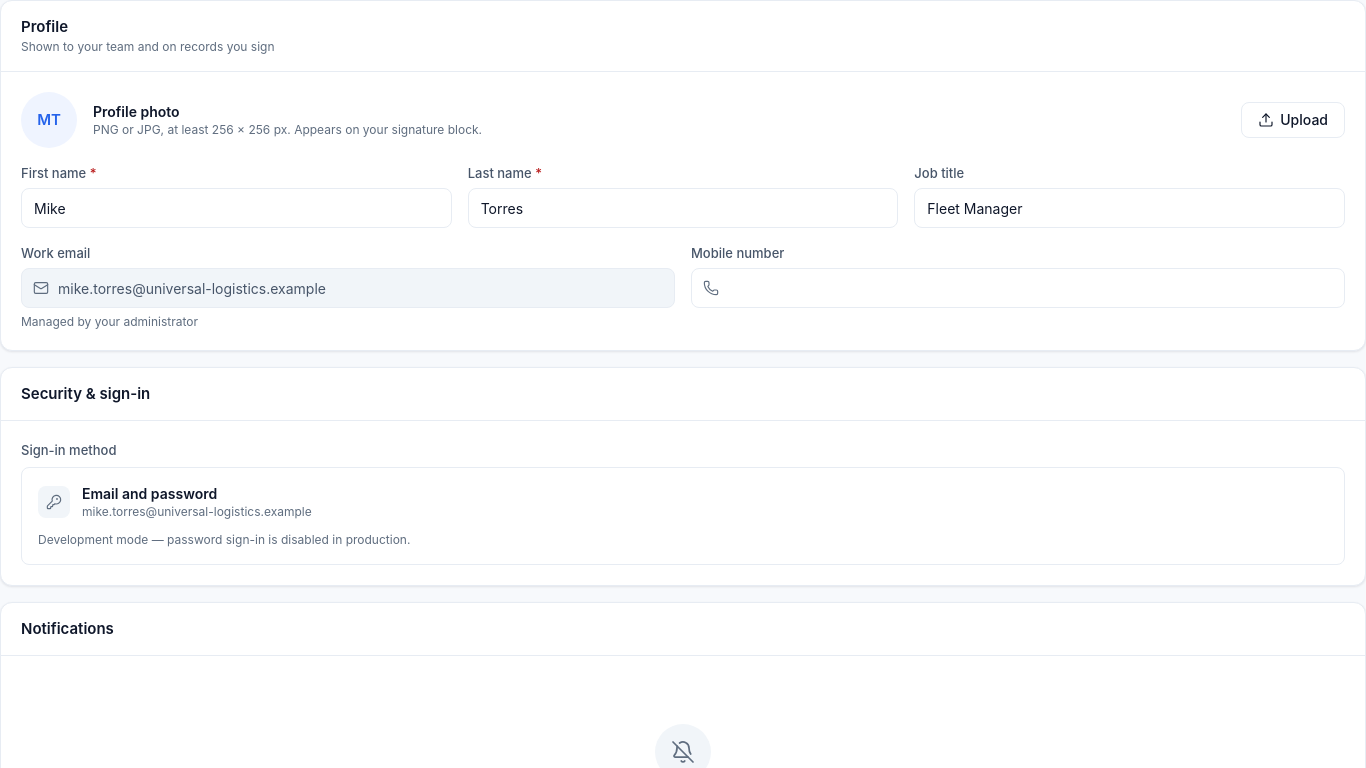
Test: W-26 — Profile card › validates on blur and never sends an invalid form
Clear the field labelled "First name *" at (236, 208), box [21,188,452,228]
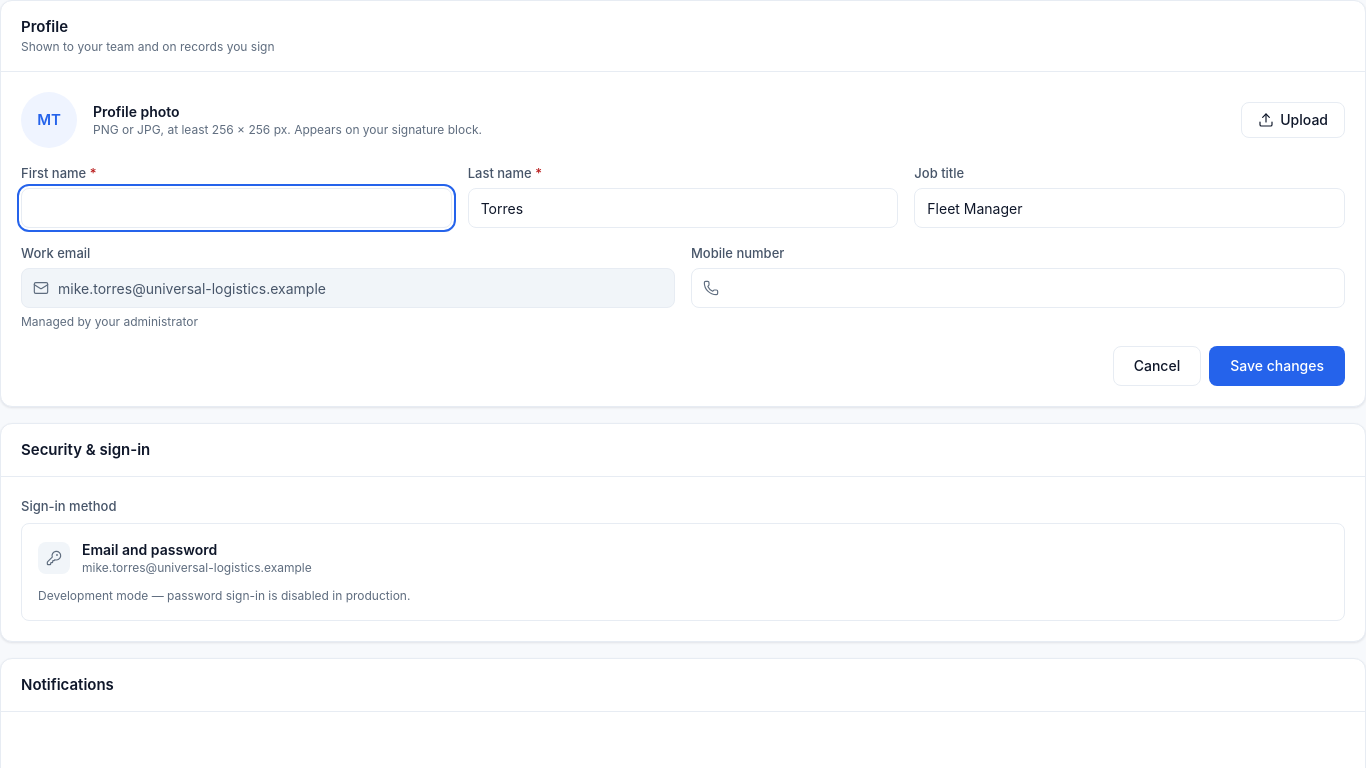
Press Tab
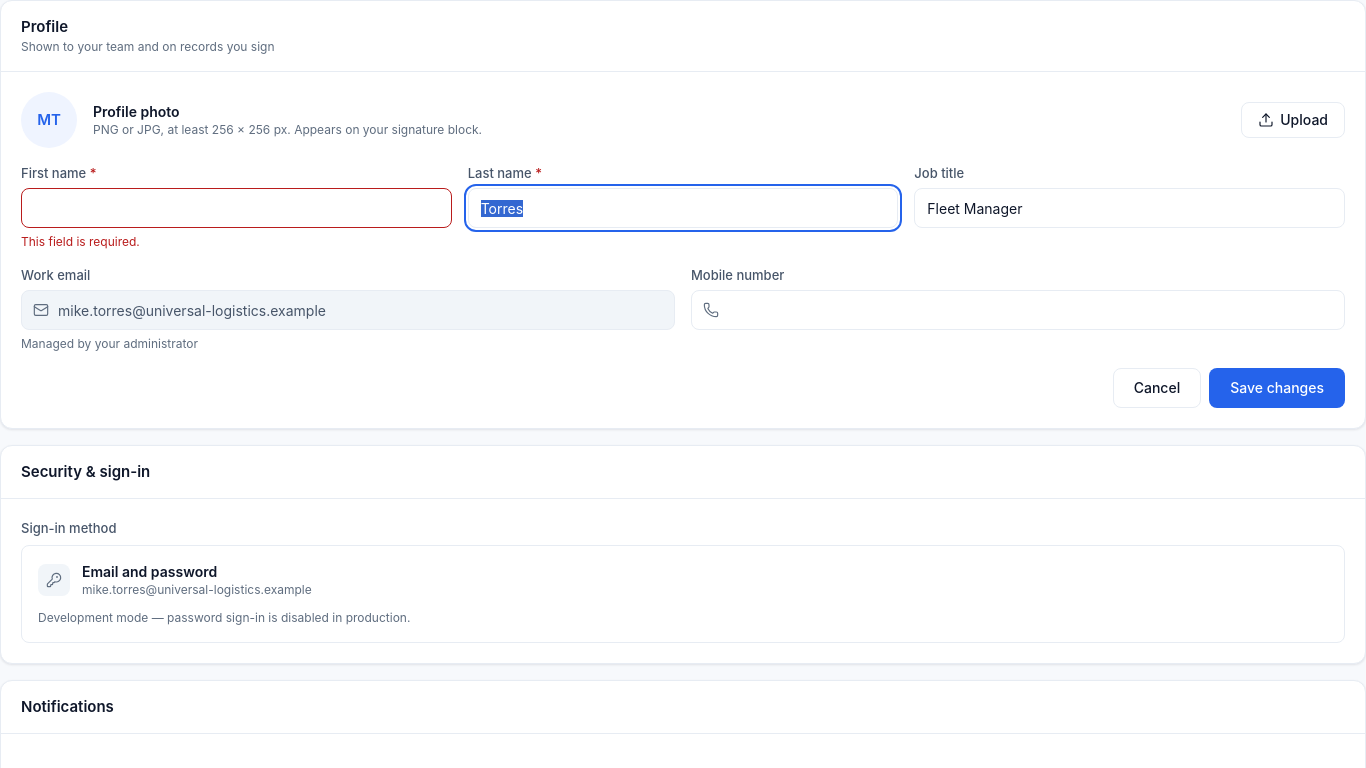
Result: the text "This field is required." is shown at [21,234,140,249]
Type "abc12" into the field labelled "Mobile number" at (1018, 310), box [691,290,1345,330]
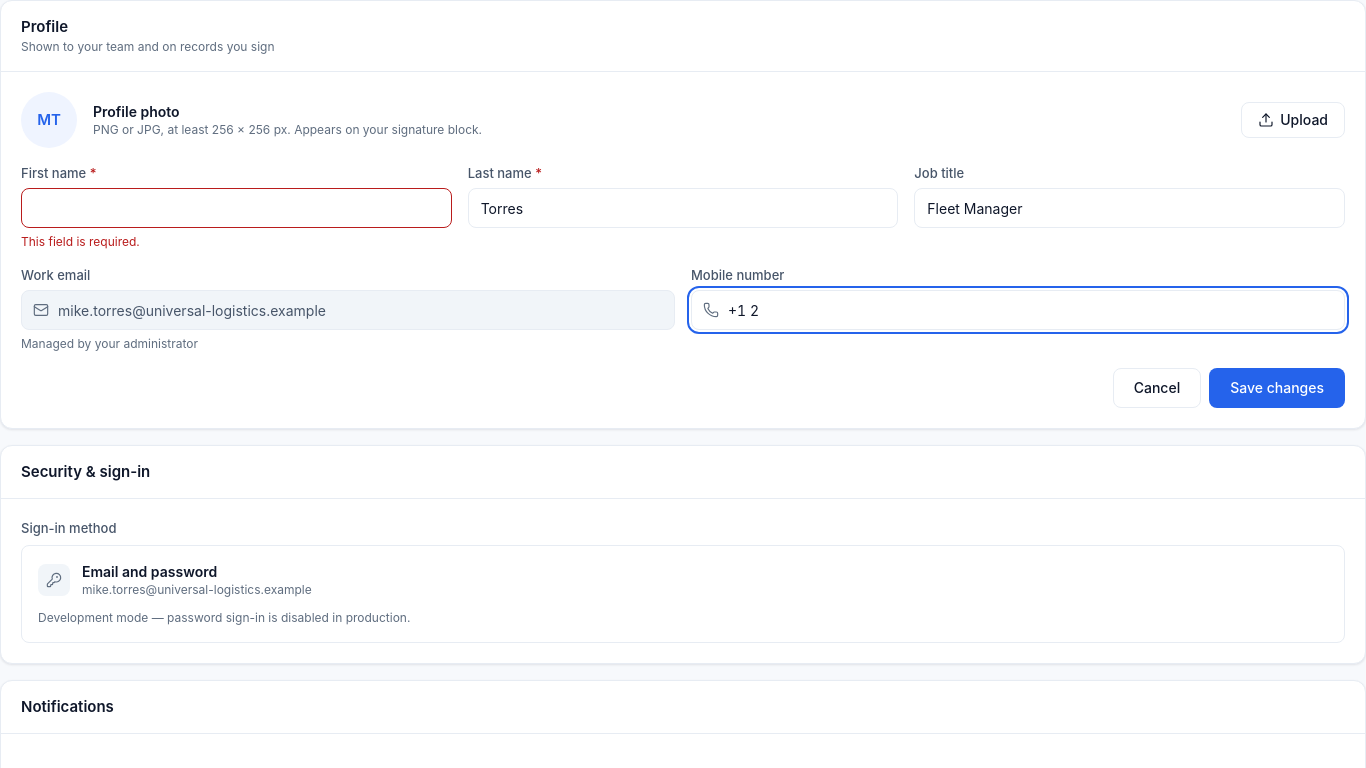
Result: the field labelled "Mobile number" holds "+1 2" at [691,290,1345,330]
Click the button "Save changes" at (1277, 388), box [1209,368,1345,408]
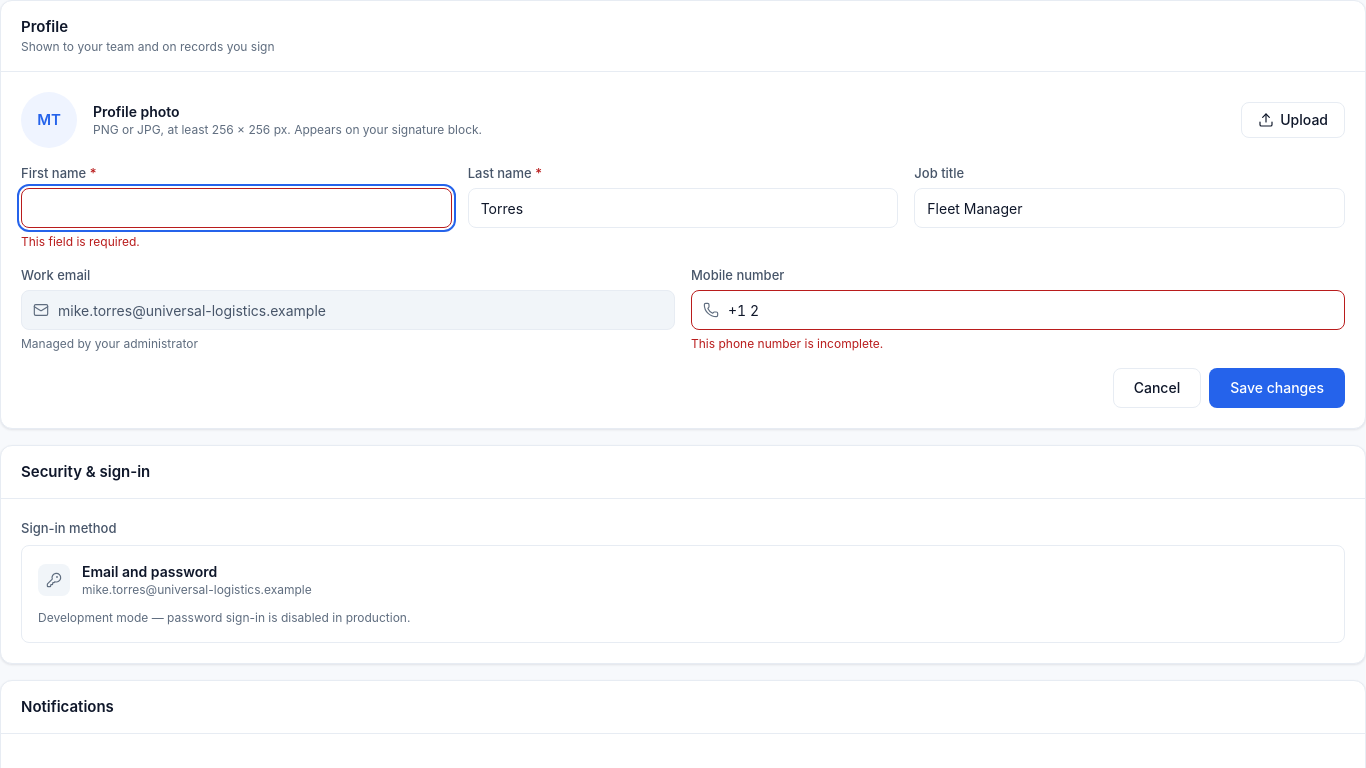
Result: the text "This phone number is incomplete." is shown at [691,336,883,351]
Click the button "Cancel" at (1157, 388), box [1113,368,1201,408]
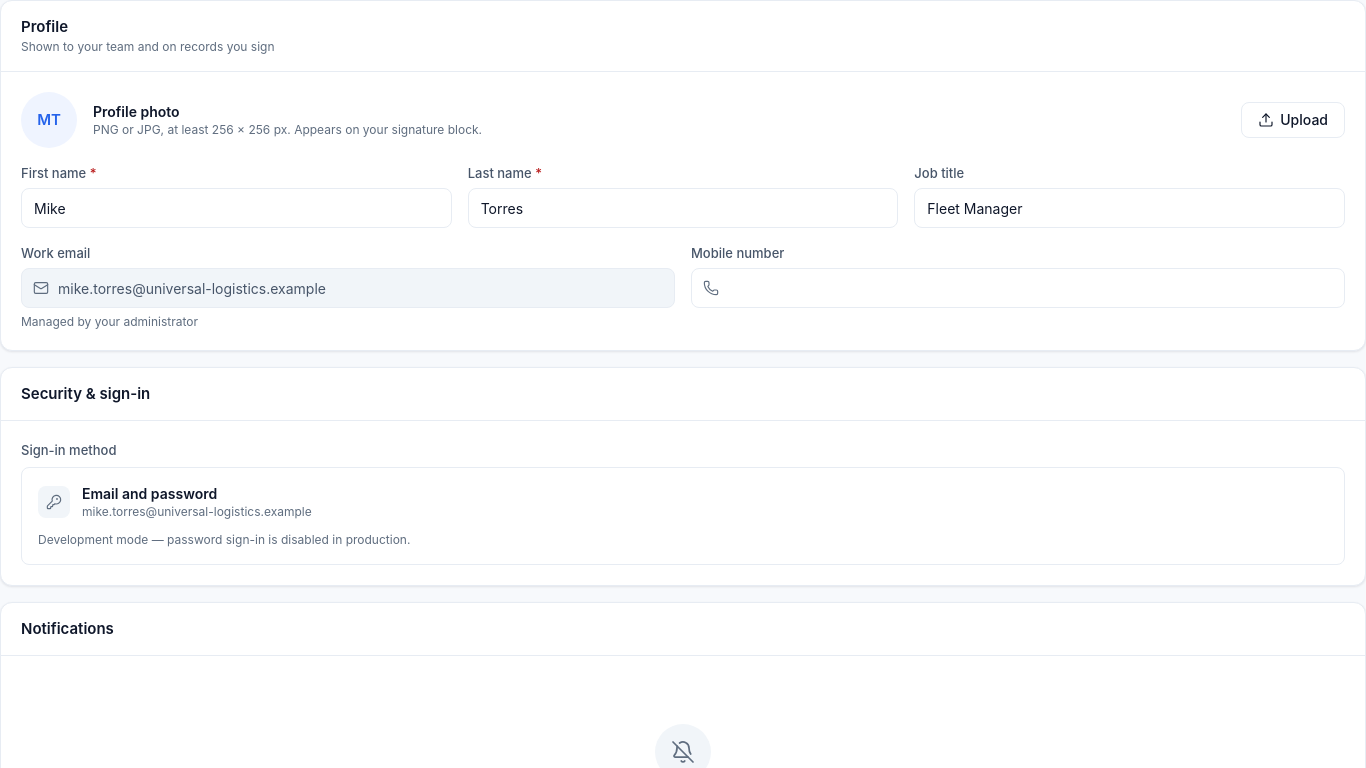
Result: the field labelled "First name *" holds "Mike" at [21,188,452,228]
